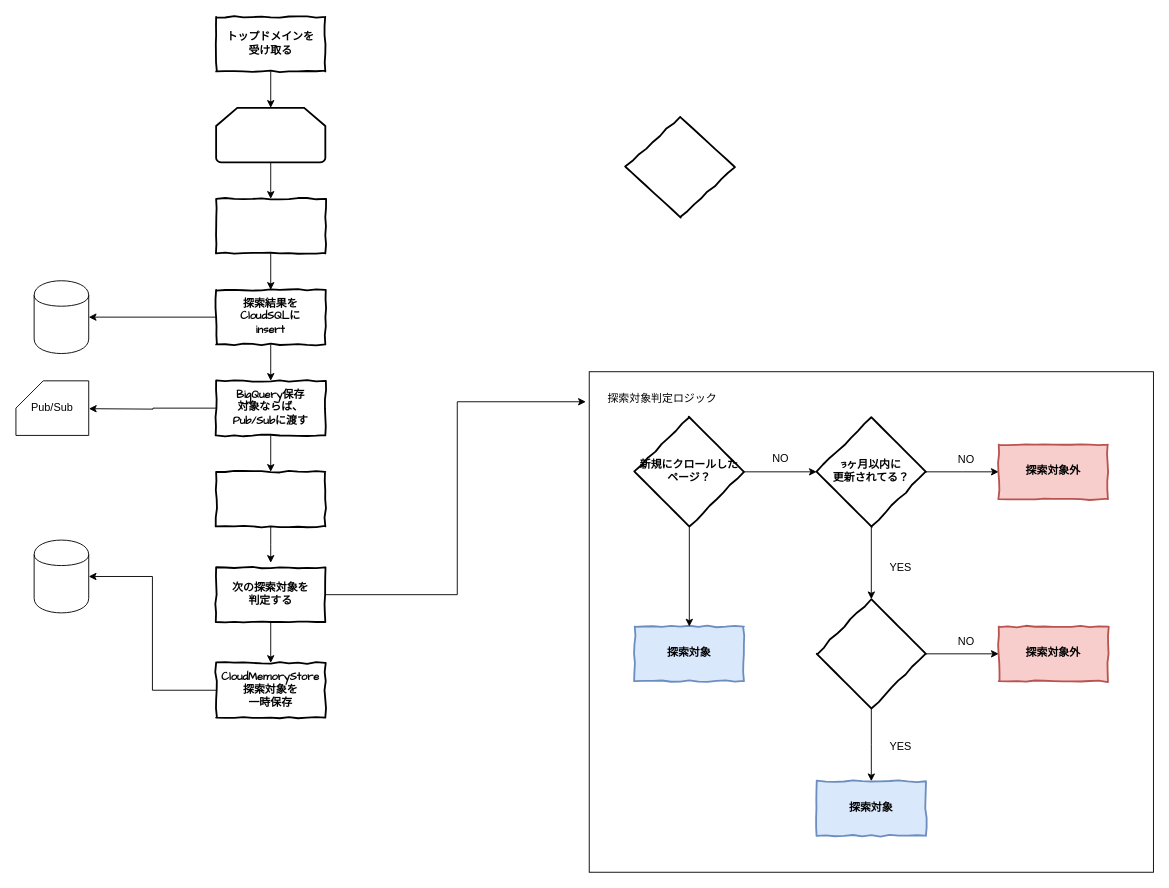
Image size: 1169x888. Some labels were removed from this diagram. Here are the shapes that lost their labels. From the top down, the centre of each, then its label:
At [679,166]: "DIAMOND".
At [270,225]: "URLを探索".
At [61,317]: "Cloud SQL".
At [270,498]: "トップドメインと 一致するaタグを 取得する".
At [61,576]: "Cloud Memory Store".
At [870,653]: "商品とASP 両方ある ページ？".
